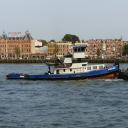tugboat: (6, 46, 121, 84)
